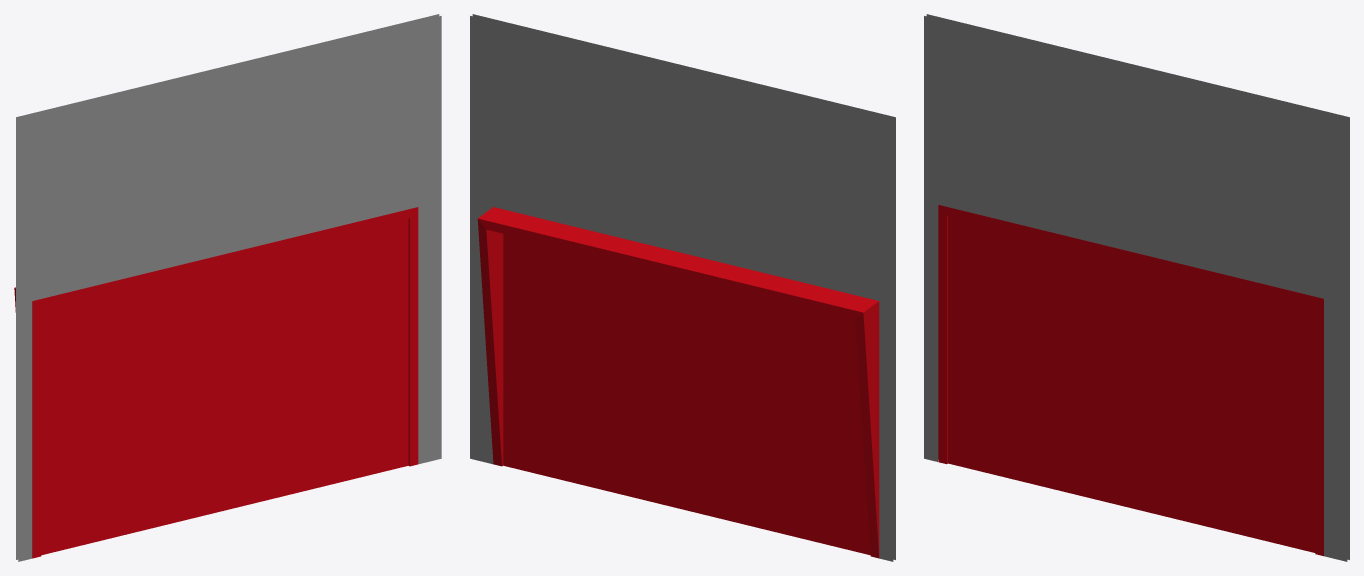
Rendered from WH_Wall_02_Gate_LG.FBX.
3 renders of one model, left to right at view 1: azimuth 30°, elevation 25°; view 2: azimuth 150°, elevation 25°; view 3: azimuth 330°, elevation 25°, orthographic.
Parts seen in each view (by area): view 1: Wall_02_Gate_LG, Gate_LG; view 2: Wall_02_Gate_LG, Gate_LG; view 3: Wall_02_Gate_LG, Gate_LG.
Boxes of the visible parts, <box> form: Wall_02_Gate_LG: <box>14,14,441,561</box>; Gate_LG: <box>41,218,408,555</box>; Wall_02_Gate_LG: <box>470,14,895,561</box>; Gate_LG: <box>503,234,870,555</box>; Wall_02_Gate_LG: <box>924,14,1349,561</box>; Gate_LG: <box>948,216,1315,552</box>.
Size of the model in its own units: 500 by 37.36 by 500.
